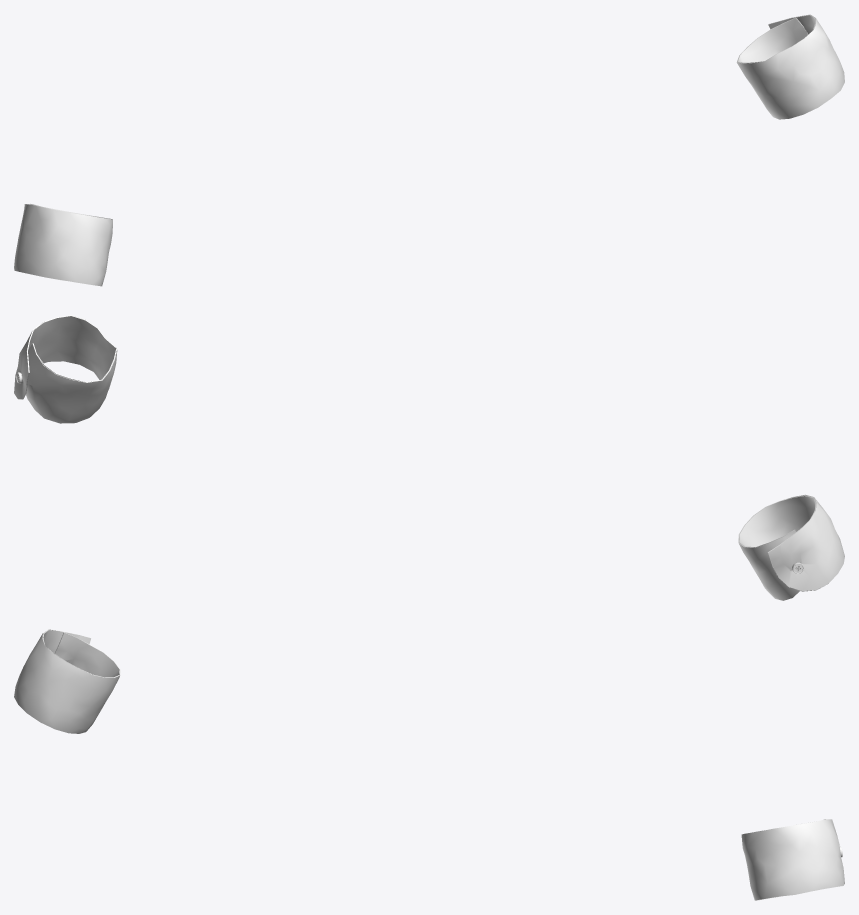
File: round-single-button-cuff.glb
The picture shows the model from 3 angles, top to bottom: view 1: azimuth 30°, elevation 25°; view 2: azimuth 150°, elevation 25°; view 3: azimuth 330°, elevation 25°; orthographic projection.
Visible parts, largest first — view 1: right_upper, left_upper, left_inner; view 2: right_upper, left_upper, left_inner, right_inner; view 3: left_upper, right_upper, right_inner.
Part boxes in pixels (box(x1,y1,x2,y2)): right_upper: box(14, 204, 112, 286); left_upper: box(736, 14, 844, 119); left_inner: box(737, 15, 815, 63); right_upper: box(738, 494, 844, 600); left_upper: box(14, 315, 117, 423); left_inner: box(18, 315, 116, 399); right_inner: box(739, 495, 819, 591); left_upper: box(741, 819, 844, 900); right_upper: box(14, 629, 120, 733); right_inner: box(43, 630, 119, 677).
Bounding box in the file's own units: 0.8327 × 0.0872 × 0.1027.
Materials: 3 (3 with a texture image).
